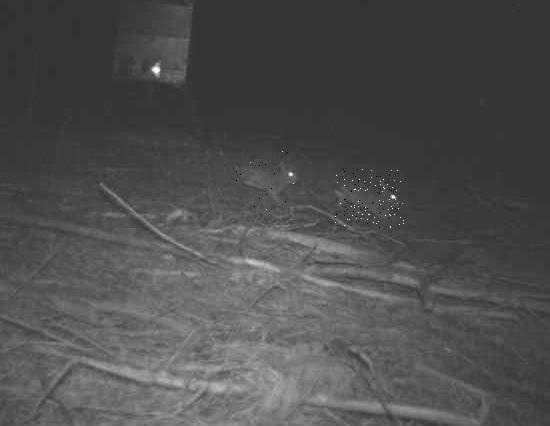Rabbit: (335, 170, 404, 229), (232, 151, 296, 210)
